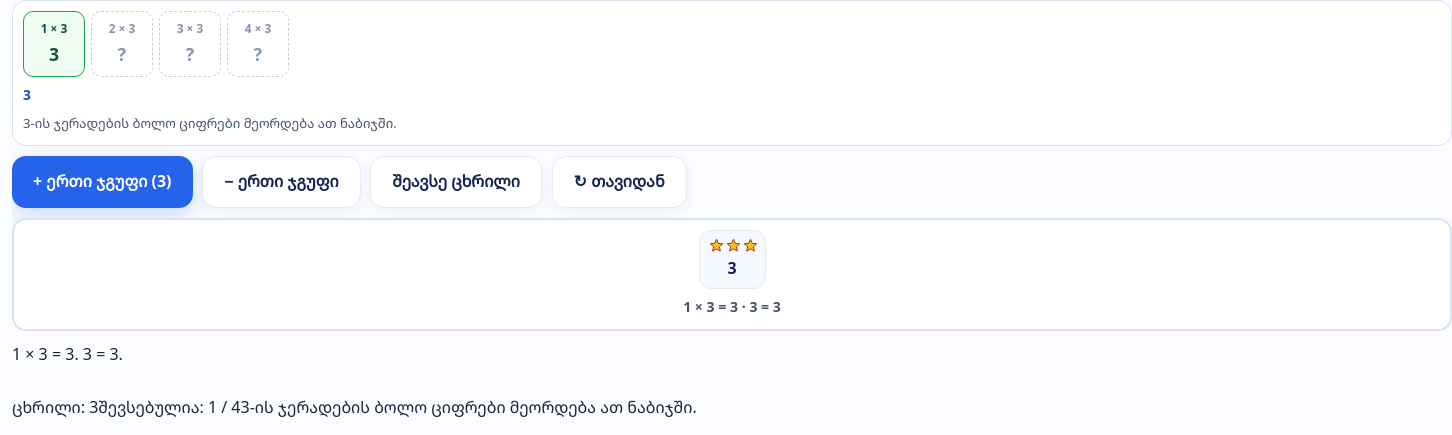
it: tools: the table lab › fills the row one fact at a time
This screenshot has width=1452, height=435.
Check: the number of elements with class "is-on" is 1, box left=23, top=11, right=85, bottom=77
Click the button "+ ერთი ჯგუფი (3)".
click(102, 182)  # box left=12, top=156, right=192, bottom=208
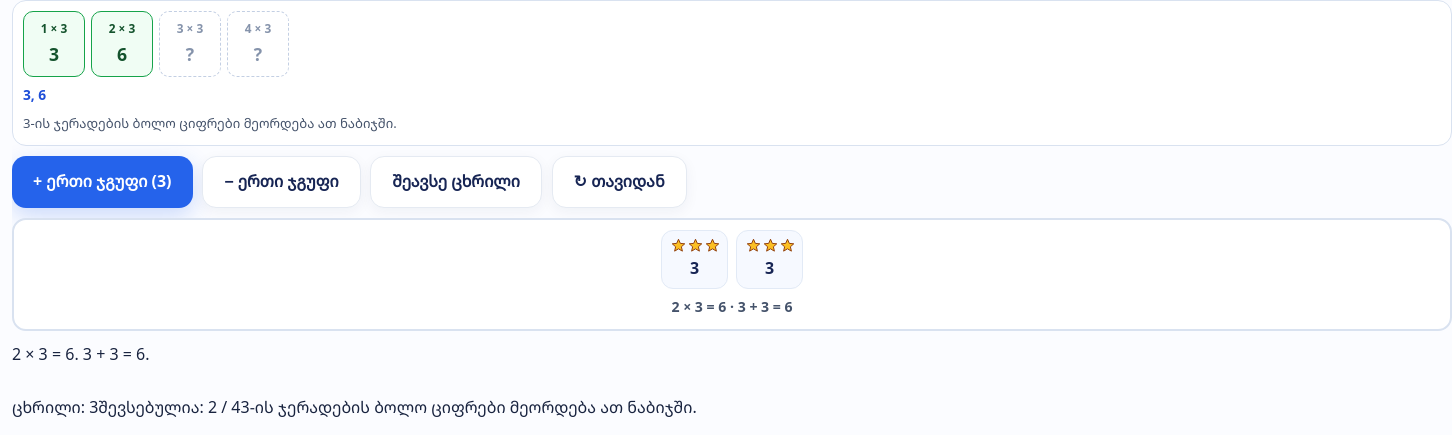
Click the button "შეავსე ცხრილი".
click(456, 182)  # box left=370, top=156, right=542, bottom=208
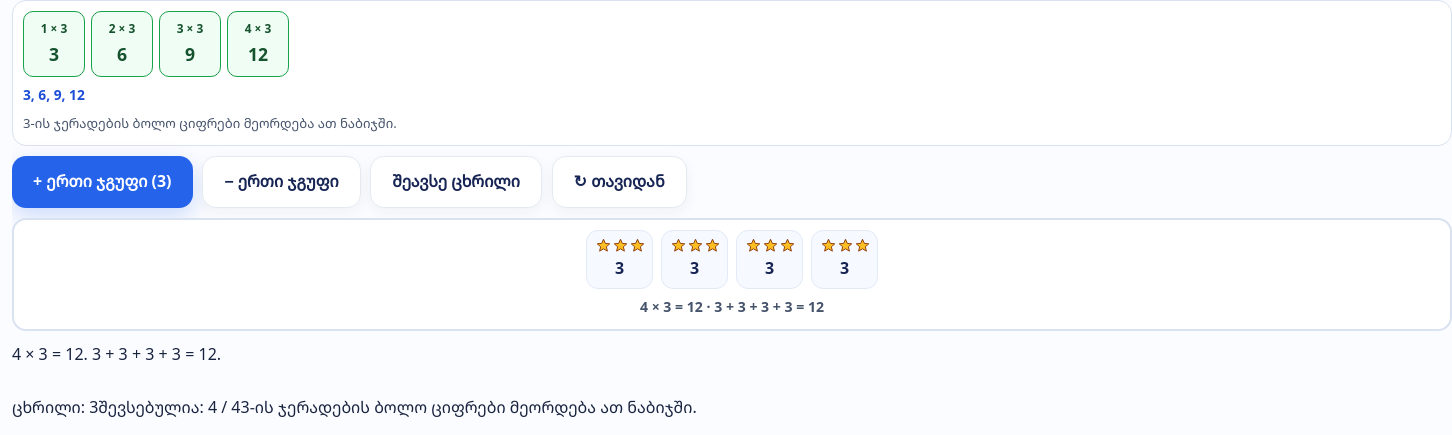
Check: the number of elements with class "is-on" is 4, box left=23, top=11, right=85, bottom=77; left=91, top=11, right=153, bottom=77; left=159, top=11, right=221, bottom=77; left=227, top=11, right=289, bottom=77
Check: the element with class "lab-facts" shows "4 / 4", box left=12, top=396, right=697, bottom=418
